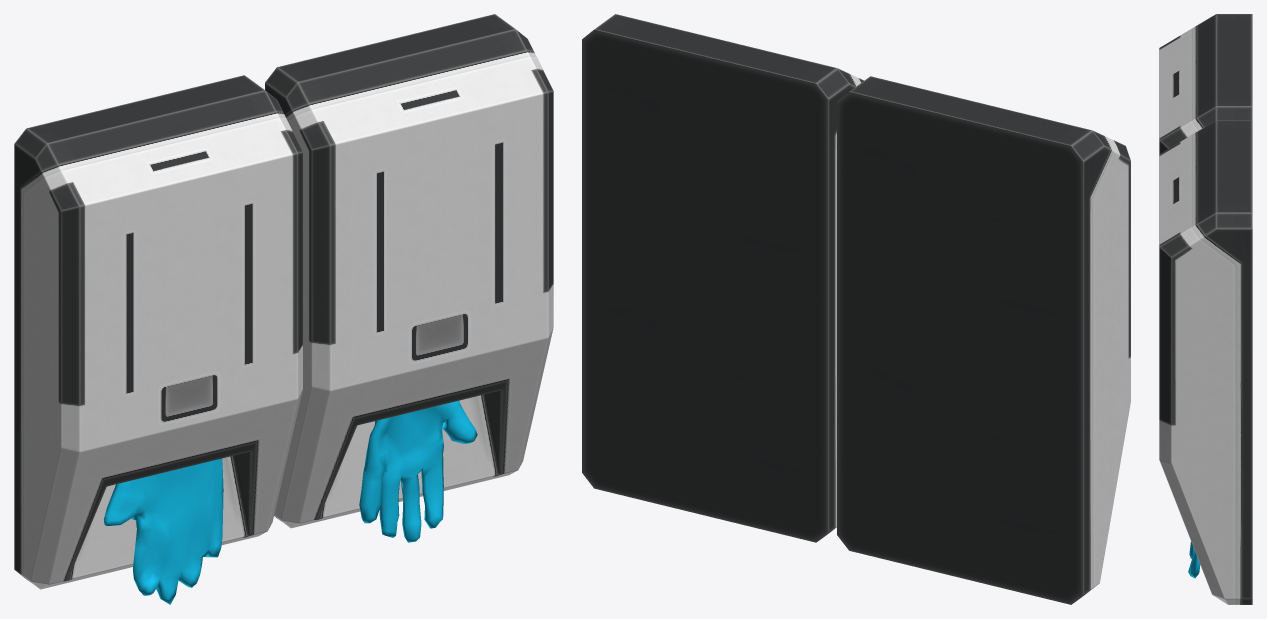
File: MedDispenserGloves01.FBX
The picture shows the model from 3 angles, left to right: view 1: azimuth 30°, elevation 25°; view 2: azimuth 150°, elevation 25°; view 3: azimuth 270°, elevation 25°; orthographic projection. The views are drawn at different scales.
Visible parts, largest first — view 1: MedDispenserGloves01; view 2: MedDispenserGloves01; view 3: MedDispenserGloves01.
Boxes of the visible parts, x1,y1,x2,y2 form: MedDispenserGloves01: (14,14,553,604); MedDispenserGloves01: (582,14,1130,604); MedDispenserGloves01: (1159,14,1252,604).
Size of what is drawn, in the model's own units: 0.8408 by 0.7788 by 0.1583.
